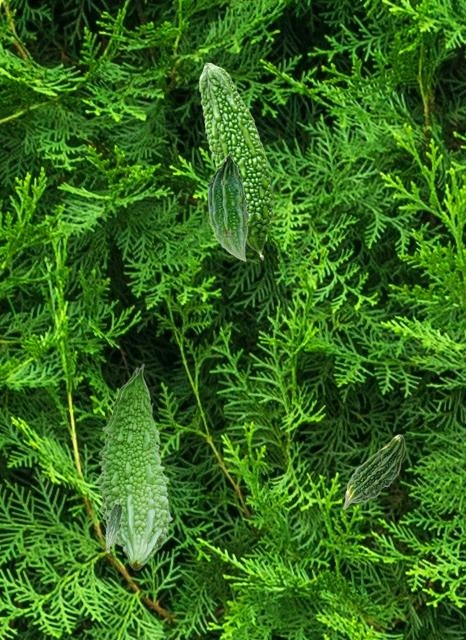ampalaya: (98, 363, 173, 570), (198, 62, 276, 260), (95, 367, 138, 556), (206, 151, 250, 262), (342, 434, 405, 510), (105, 498, 123, 553)
